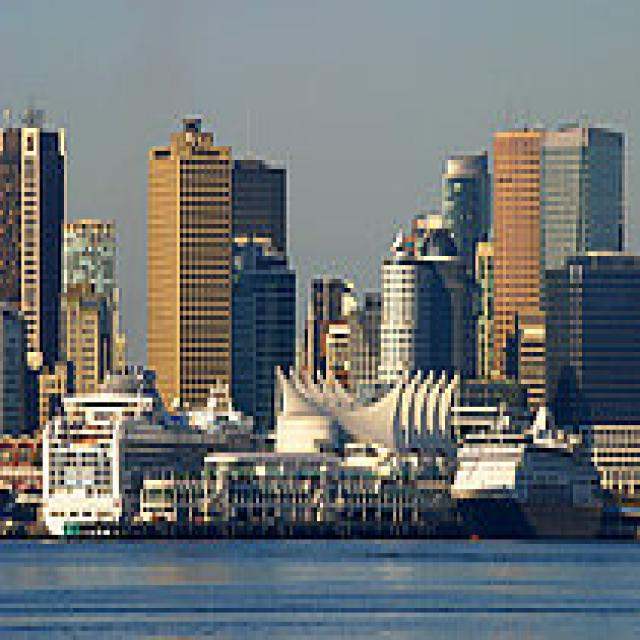Cruise: (445, 398, 606, 539), (34, 379, 137, 535)
